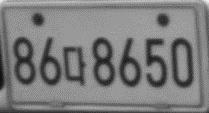0: (170, 37, 193, 88)
5: (144, 37, 167, 87)
6: (118, 37, 141, 86), (39, 36, 61, 86)
8: (91, 36, 115, 85), (12, 37, 36, 84)
다: (62, 46, 87, 86)
